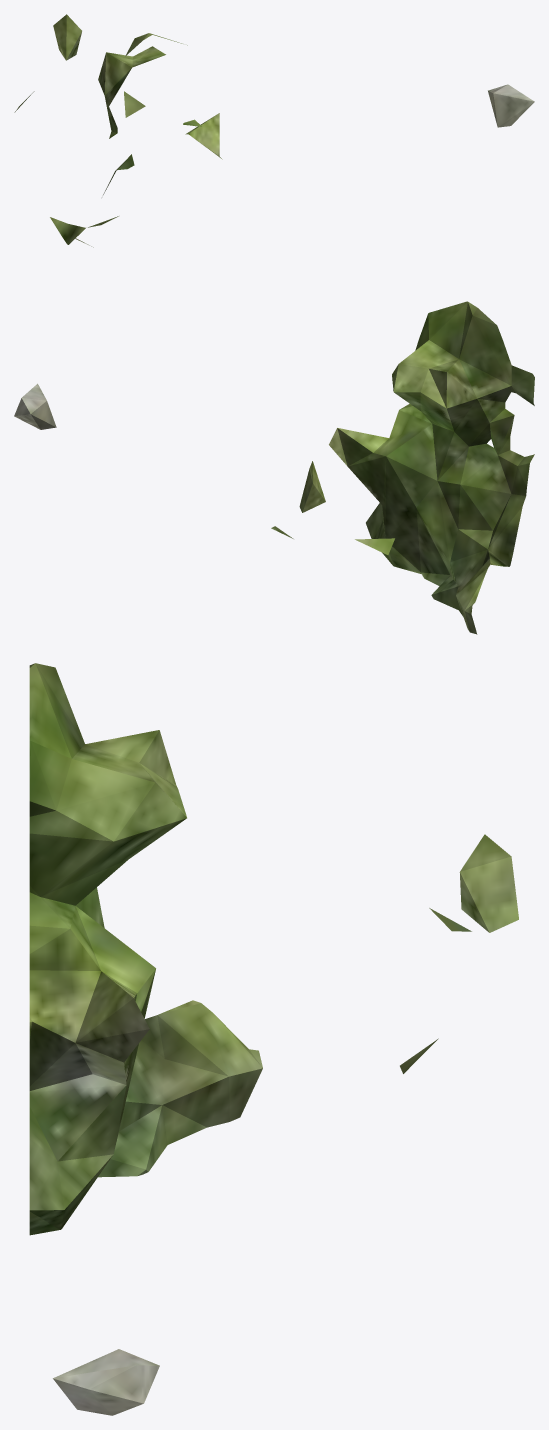
The picture shows the model from 3 angles, top to bottom: view 1: azimuth 30°, elevation 25°; view 2: azimuth 150°, elevation 25°; view 3: azimuth 270°, elevation 25°; orthographic projection. The views are drawn at different scales.
Bounding box in the file's own units: 14.27 × 7.65 × 6.7.
Materials: 1 (1 with a texture image).
